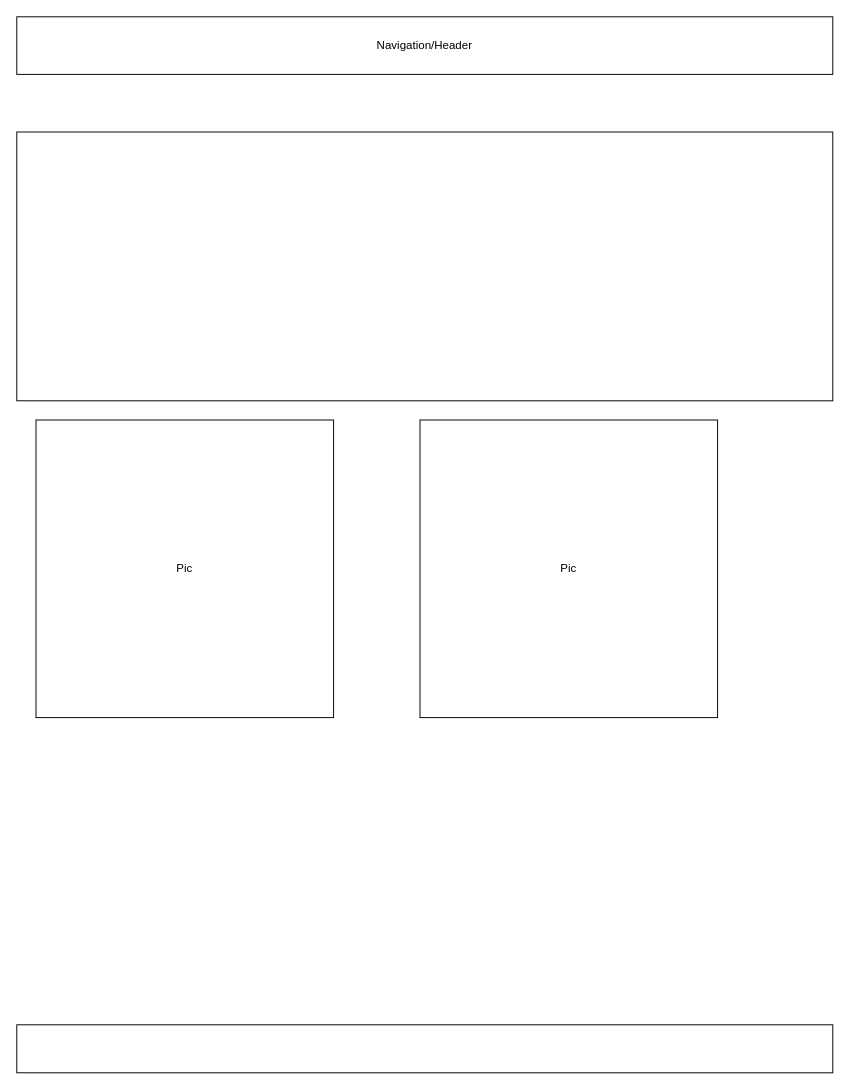
The diagram is 850 pixels wide and 1090 high, and some of its shapes have lost their labels. The shapes that lost their labels are listed below. From the top down, each one's centre as x and y in pixels, then its label:
At (424,266): "About me".
At (424,1048): "Footer".
